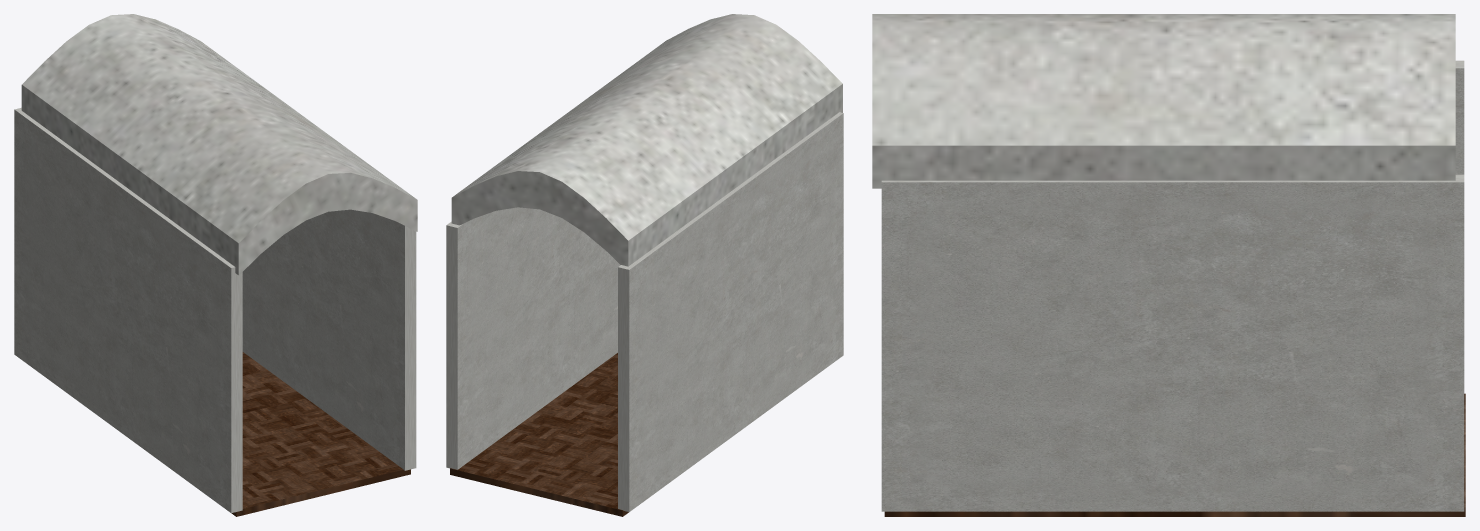
Rendered from PasilloOval.fbx.
The picture shows the model from 3 angles, left to right: view 1: azimuth 30°, elevation 25°; view 2: azimuth 150°, elevation 25°; view 3: azimuth 270°, elevation 25°; orthographic projection. The views are drawn at different scales.
Visible parts, largest first — view 1: Box169; view 2: Box169; view 3: Box169.
Part boxes in pixels (bbox=[...]): Box169: bbox=[14, 14, 417, 516]; Box169: bbox=[446, 14, 843, 516]; Box169: bbox=[872, 14, 1465, 516].
Bounding box in the file's own units: 117 × 196 × 241.
